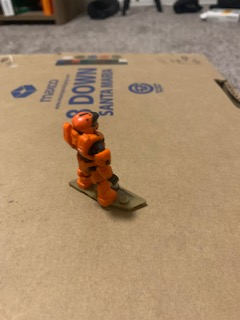soldier: (60, 108, 121, 209)
